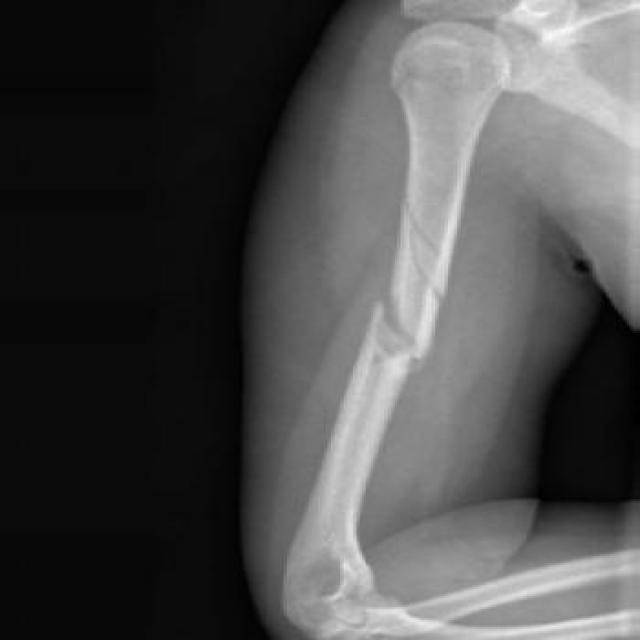Fracture: (352, 275, 445, 376)
